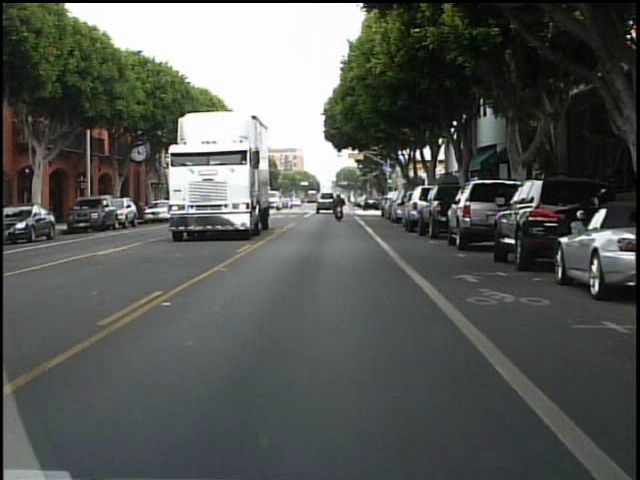person: (331, 192, 347, 223)
